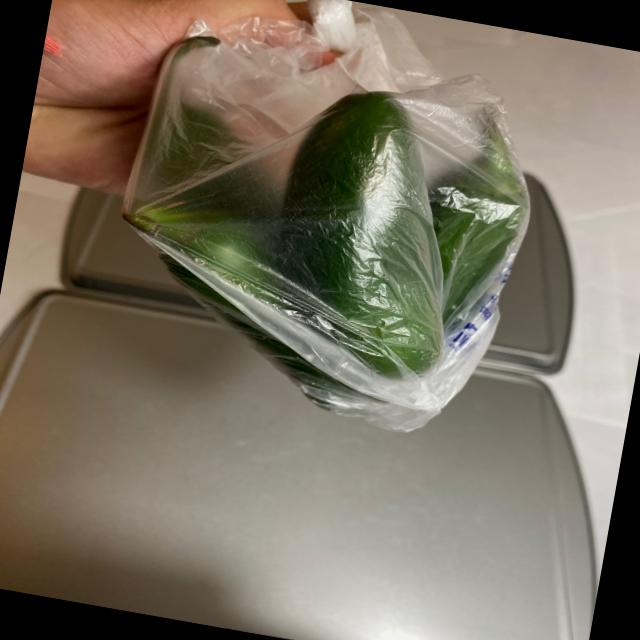chilli: (76, 8, 562, 449)
